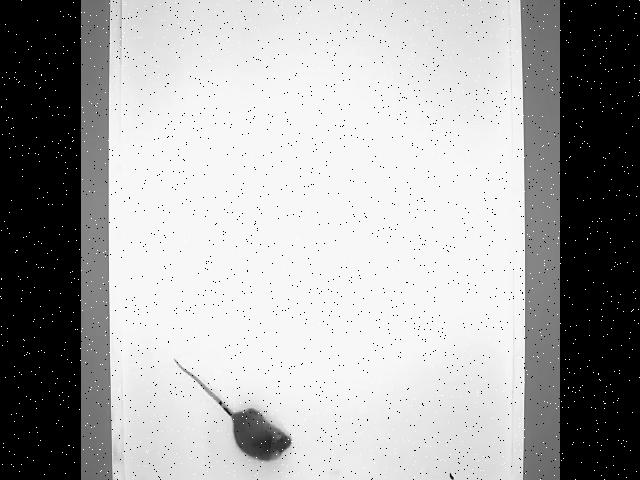Tikus: (168, 353, 294, 480)
